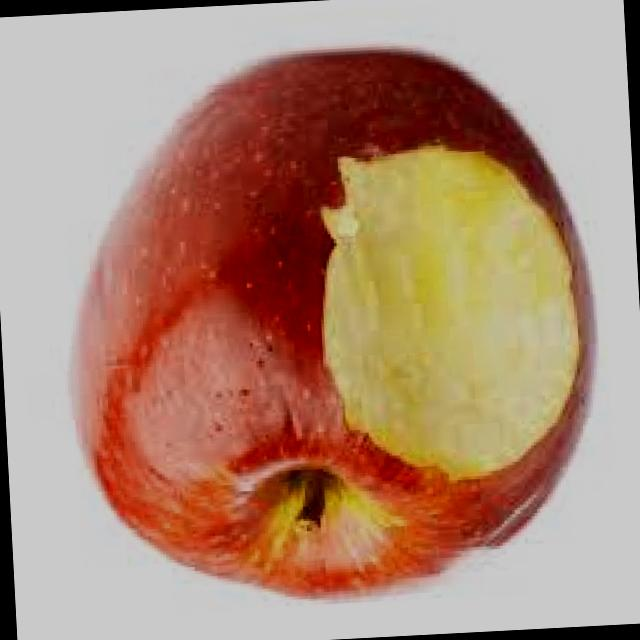Used Apple: (55, 41, 606, 613)
